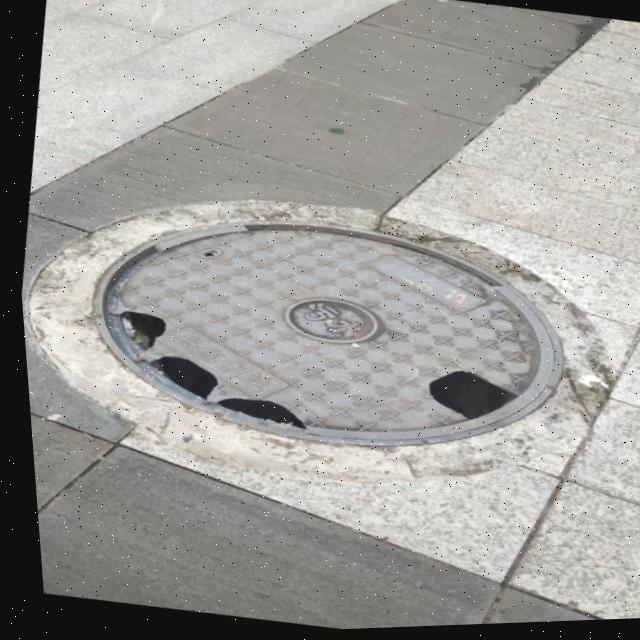manhole: (15, 161, 628, 515)
